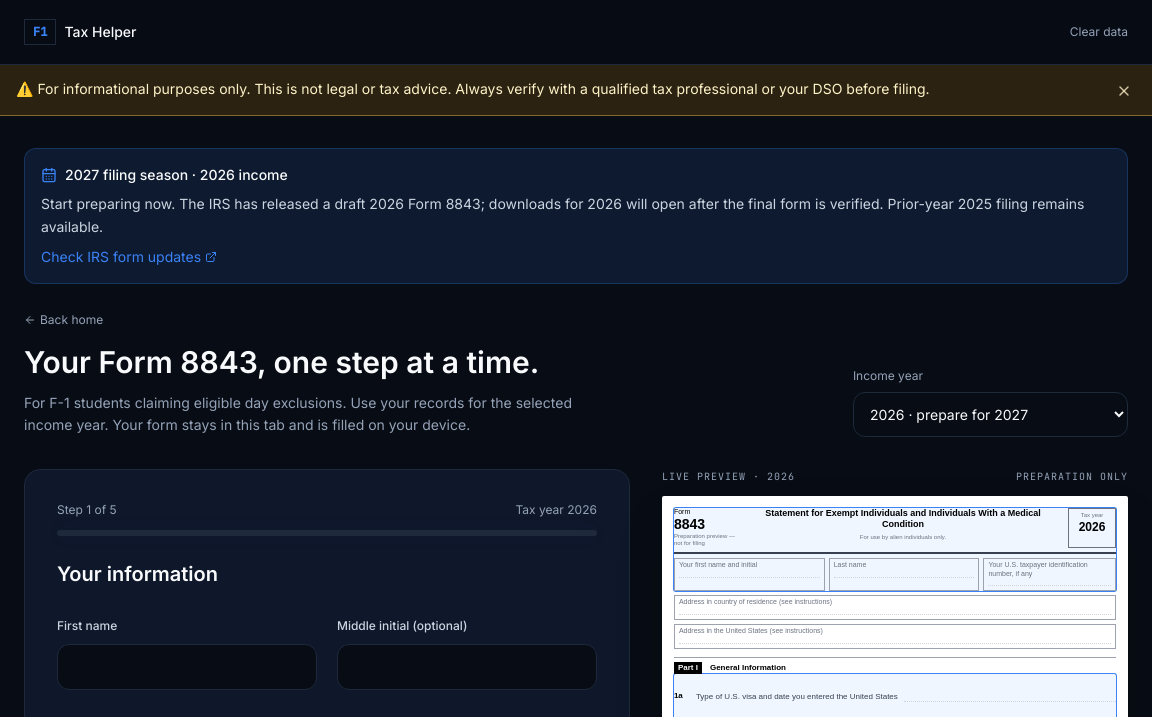
Test: opens 2026 preparation by default and allows explicit prior-year selection
Select "2025 · prior-year filing" in the dropdown labelled "Income year" at [990, 414], box [853,392,1128,437]
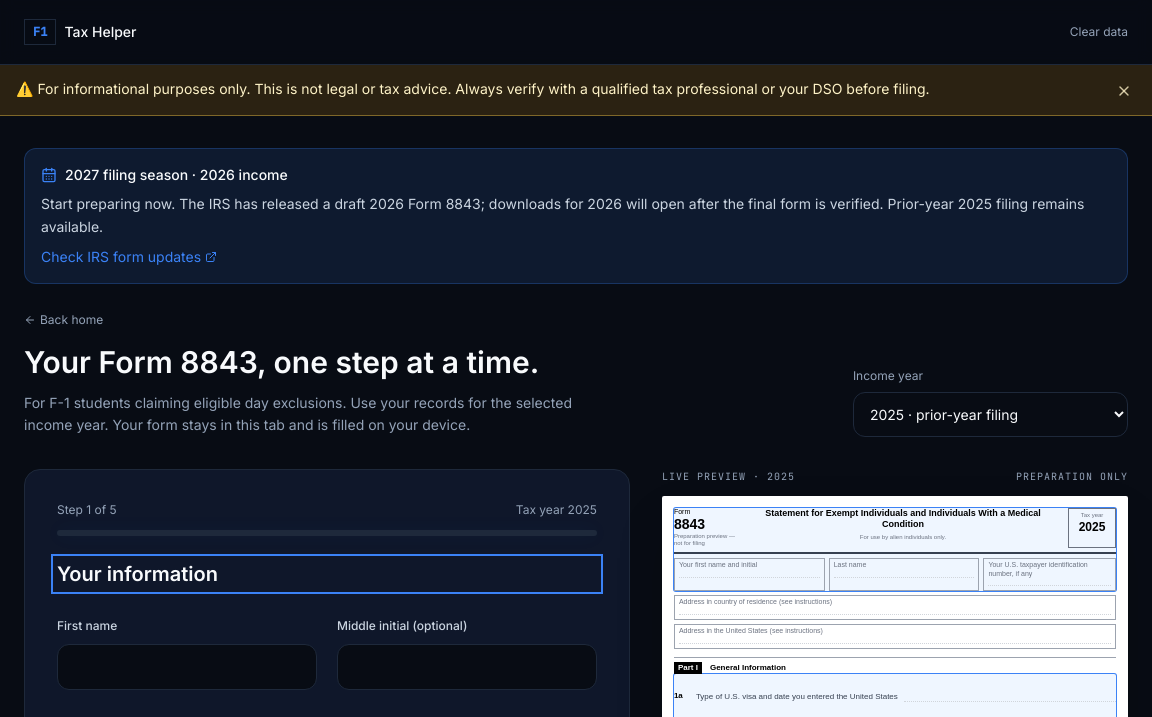
Check: the text "Tax year 2025" is shown, box [516,502,597,518]
